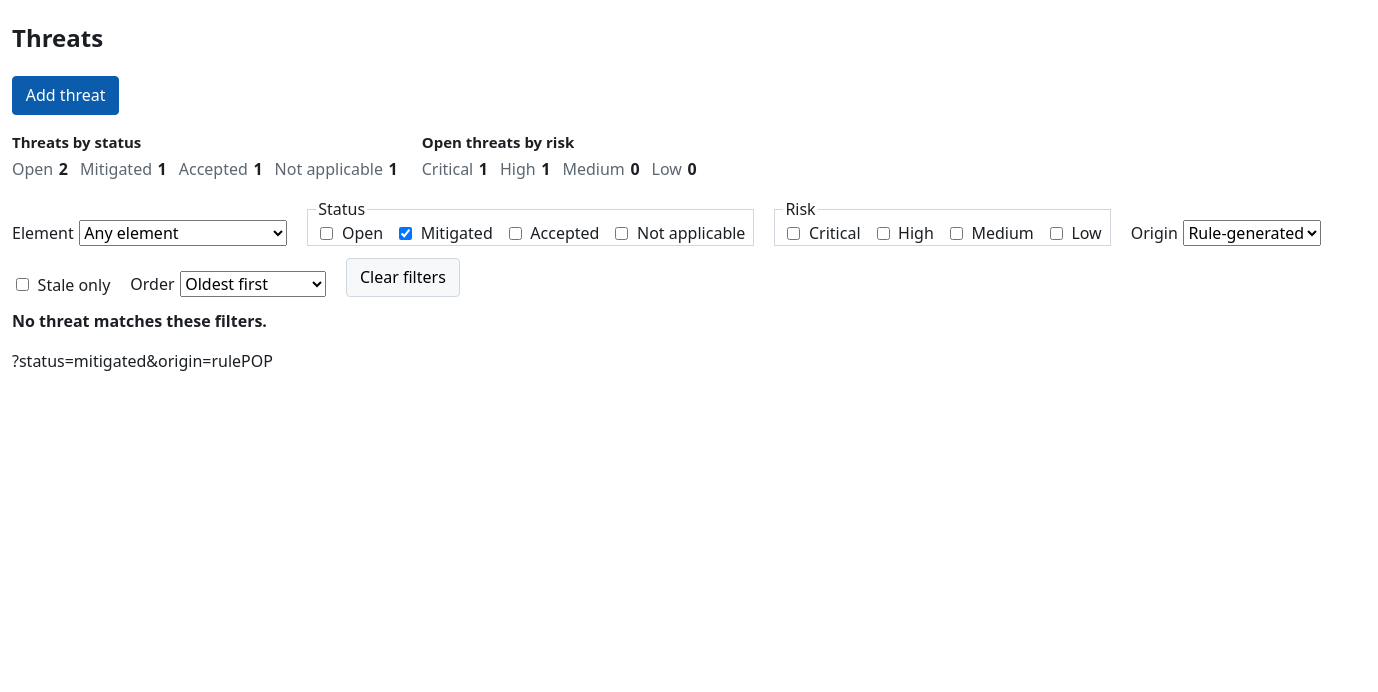
Scenario: the count line and the filters in the address (FR-019) › says so when nothing matches, and Clear filters brings everything back
Check: the text "No threat matches these filters." is shown, box left=12, top=310, right=267, bottom=332
Click the button "Clear filters" at (403,278), box left=346, top=258, right=460, bottom=297
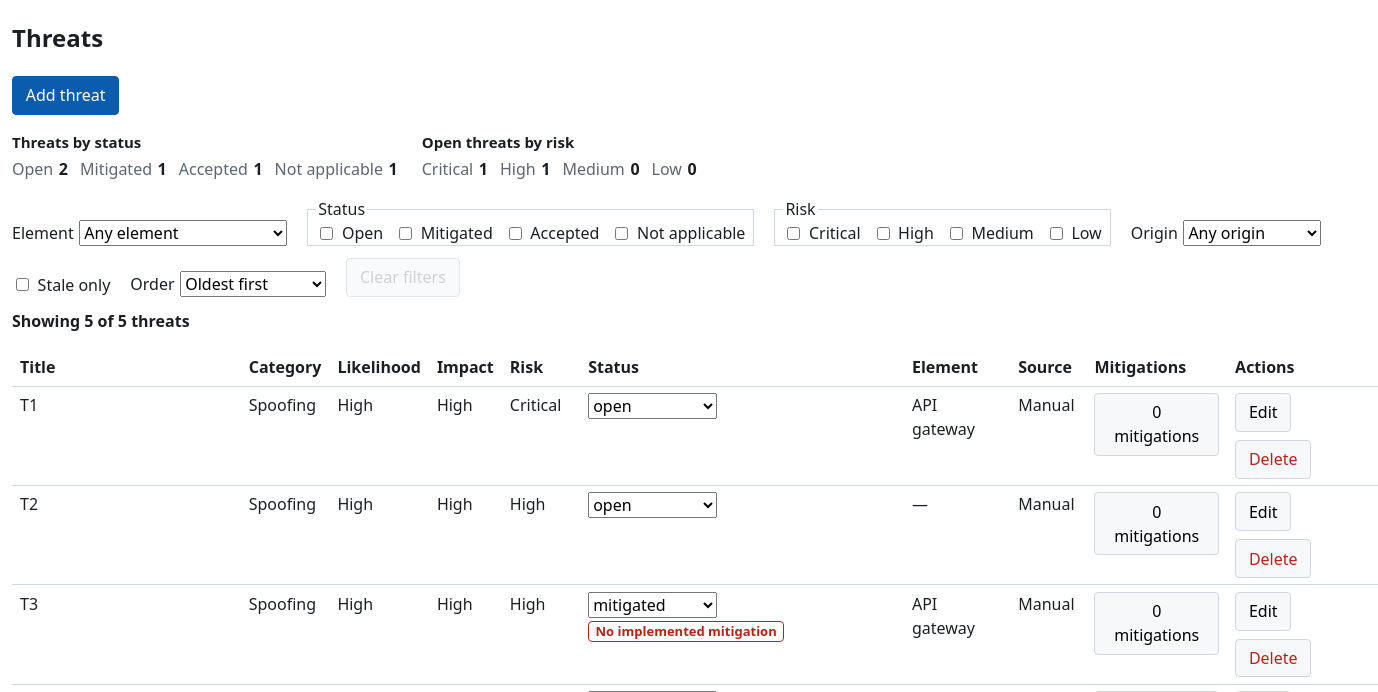
Check: the text "Showing 5 of 5 threats" is shown, box left=12, top=310, right=190, bottom=332
